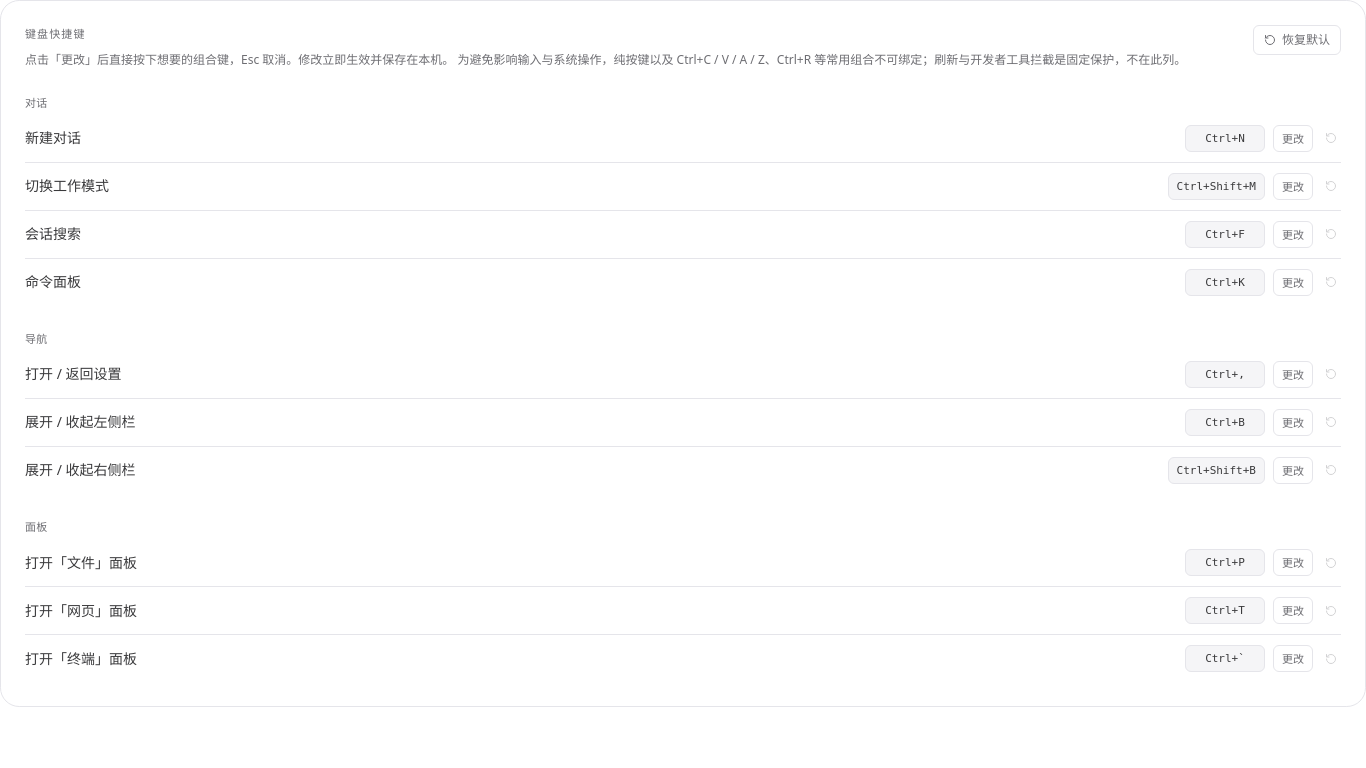
Test case: 快捷键设置分区 › 恢复默认清掉自定义键位
Step 1. Click the button "更改" next to "Ctrl+N" → [1293, 138], box left=1273, top=125, right=1313, bottom=152
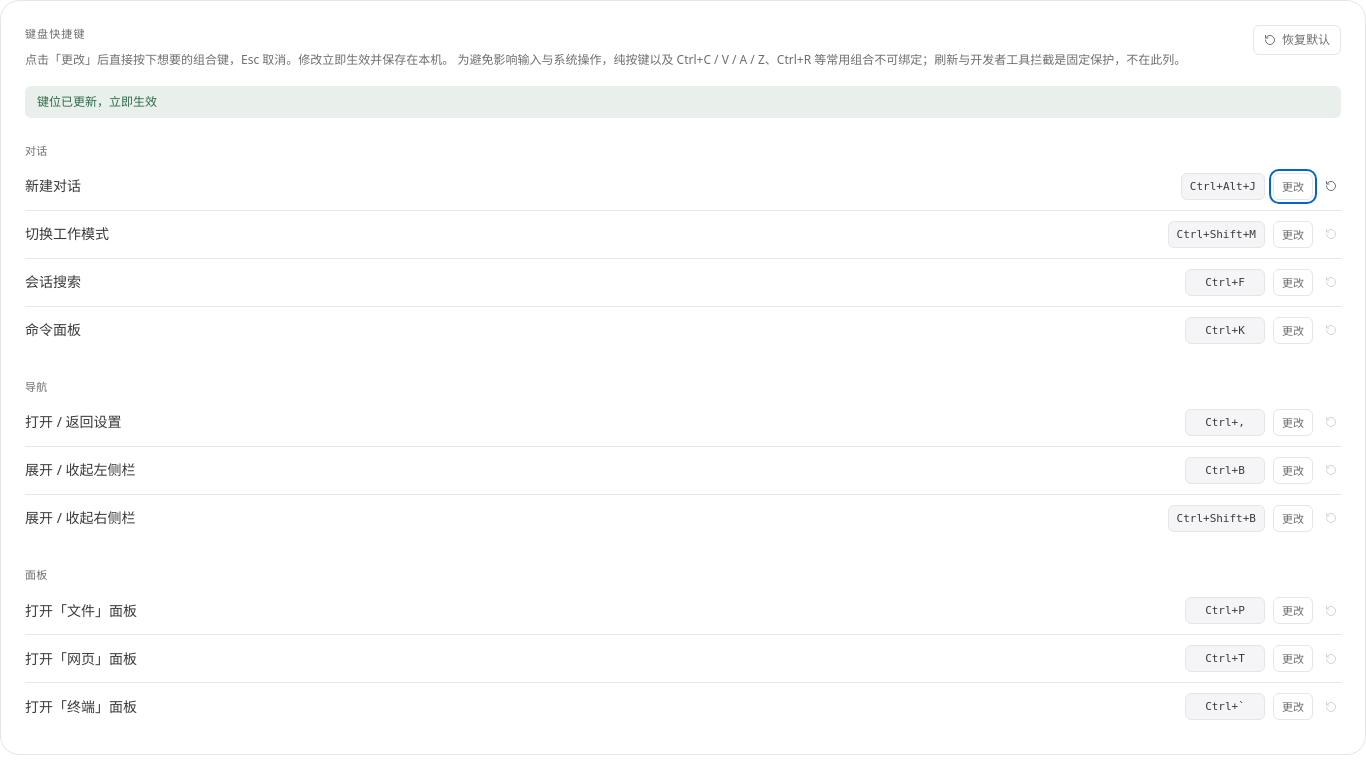
Expected: the text "Ctrl+Alt+J" is shown, left=1181, top=173, right=1265, bottom=200
Step 2. Click the button "恢复默认" → [1297, 40], box left=1253, top=25, right=1341, bottom=55
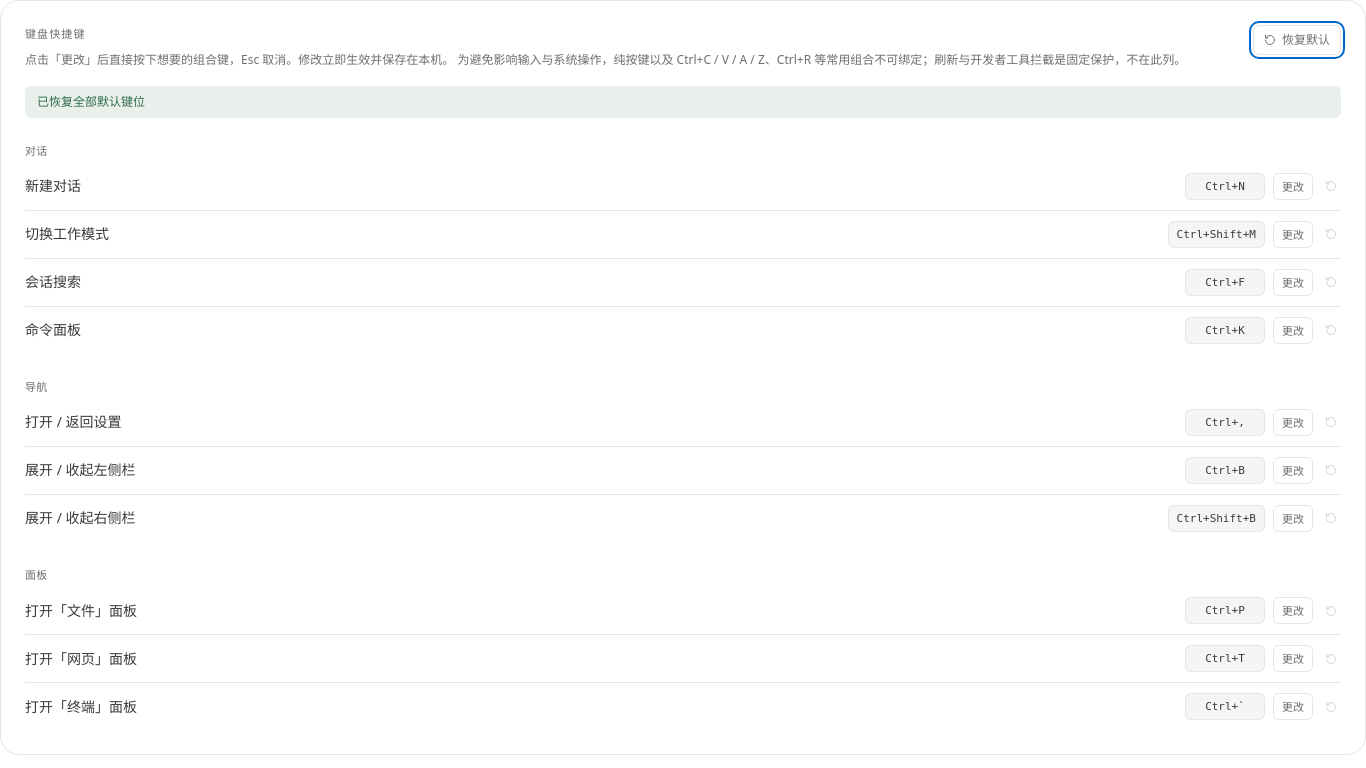
Expected: the text "Ctrl+N" is shown, left=1185, top=173, right=1265, bottom=200
Expected: the text "Ctrl+Alt+J" is gone
